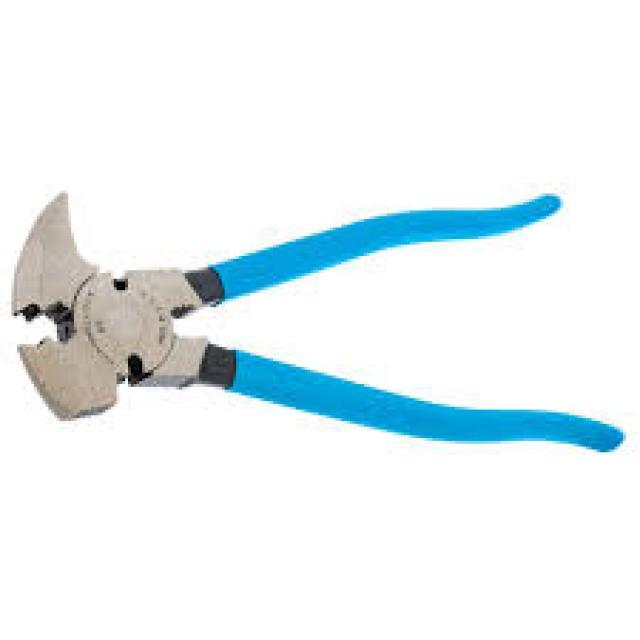pliers: (0, 182, 628, 474)
